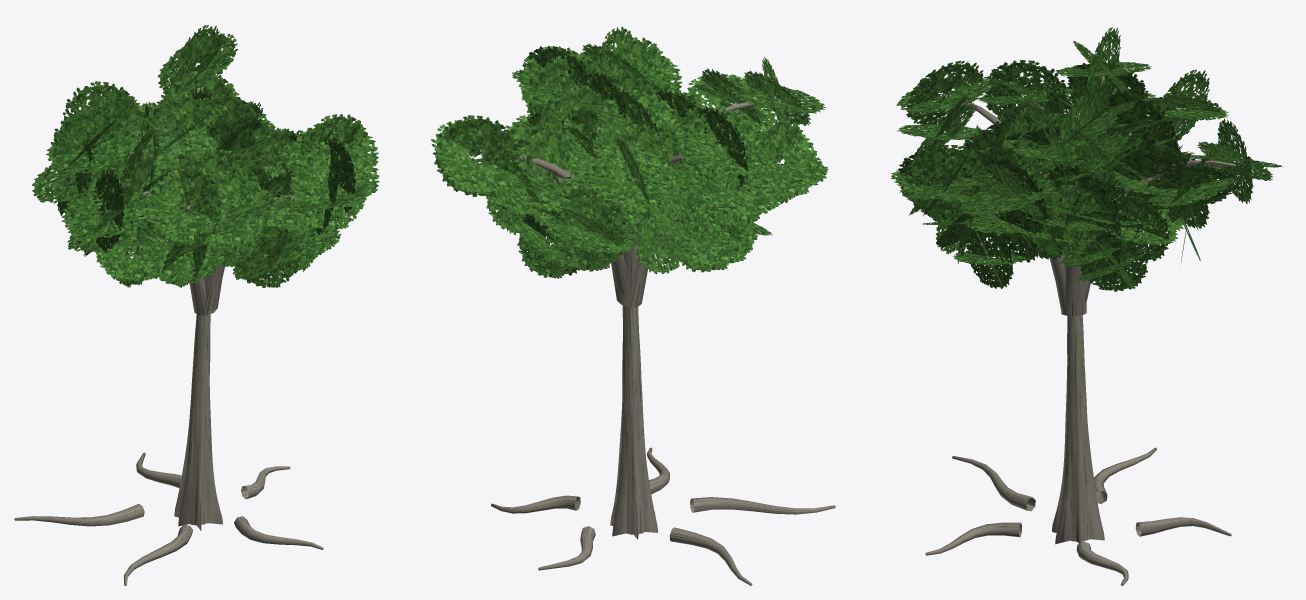
3 views of the same model, side by side, from view 1: azimuth 30°, elevation 25°; view 2: azimuth 150°, elevation 25°; view 3: azimuth 270°, elevation 25° (orthographic). The views are drawn at different scales.
Parts seen in each view (by area): view 1: BigTree-forest-e; view 2: BigTree-forest-e; view 3: BigTree-forest-e.
Part boxes in pixels (x1,y1,x2,y2): BigTree-forest-e: (14, 25, 379, 585); BigTree-forest-e: (431, 26, 835, 585); BigTree-forest-e: (891, 27, 1282, 585).
Bounding box in the file's own units: 15.19 × 19.5 × 16.24.
1 material, 1 textured.
